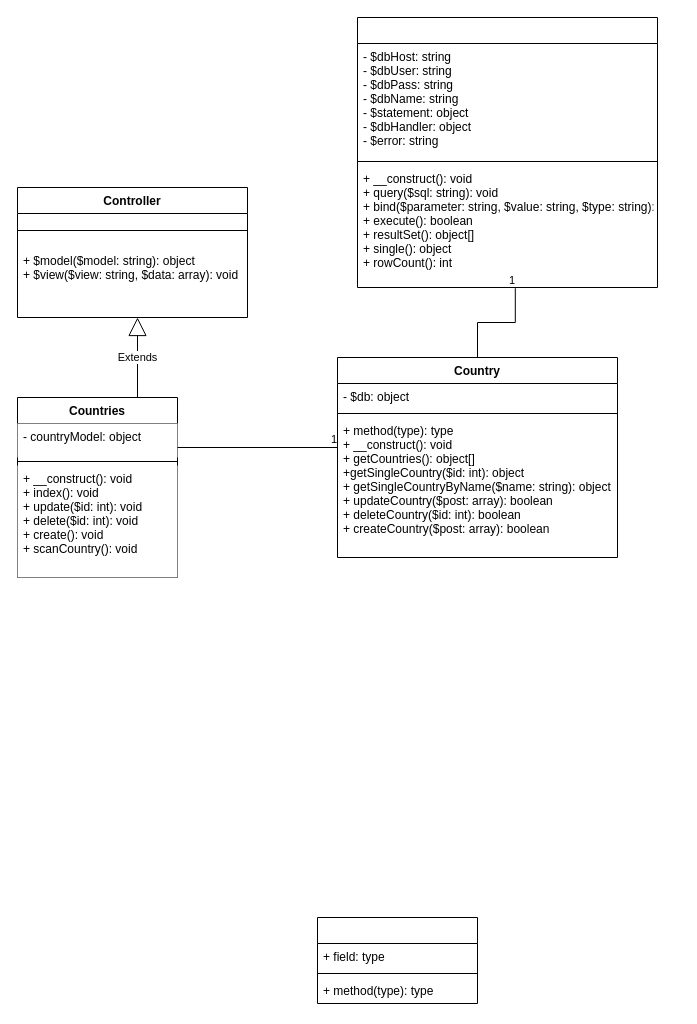
Image size: 697x1024. Some labels were removed from this diagram. The box of each missing label's shape, as (x1, y1, x2, y2) in pixels:
Classname: (316, 916, 478, 1004)
Databases: (356, 16, 658, 288)
